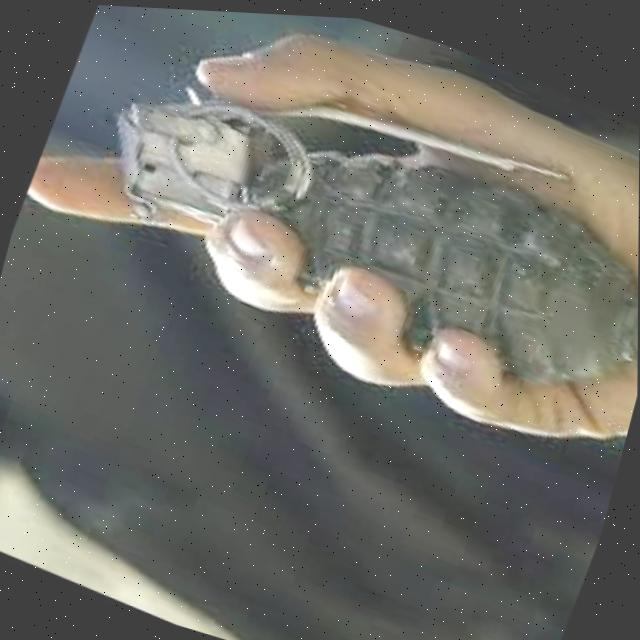grenade: (60, 3, 640, 431)
